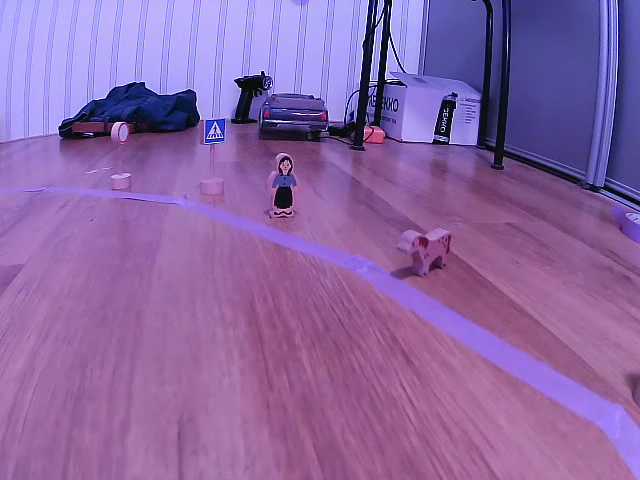mens: (267, 151, 296, 219)
paard: (397, 225, 457, 276)
wegdicht: (112, 122, 132, 144)
zebrapad: (202, 119, 228, 147)
